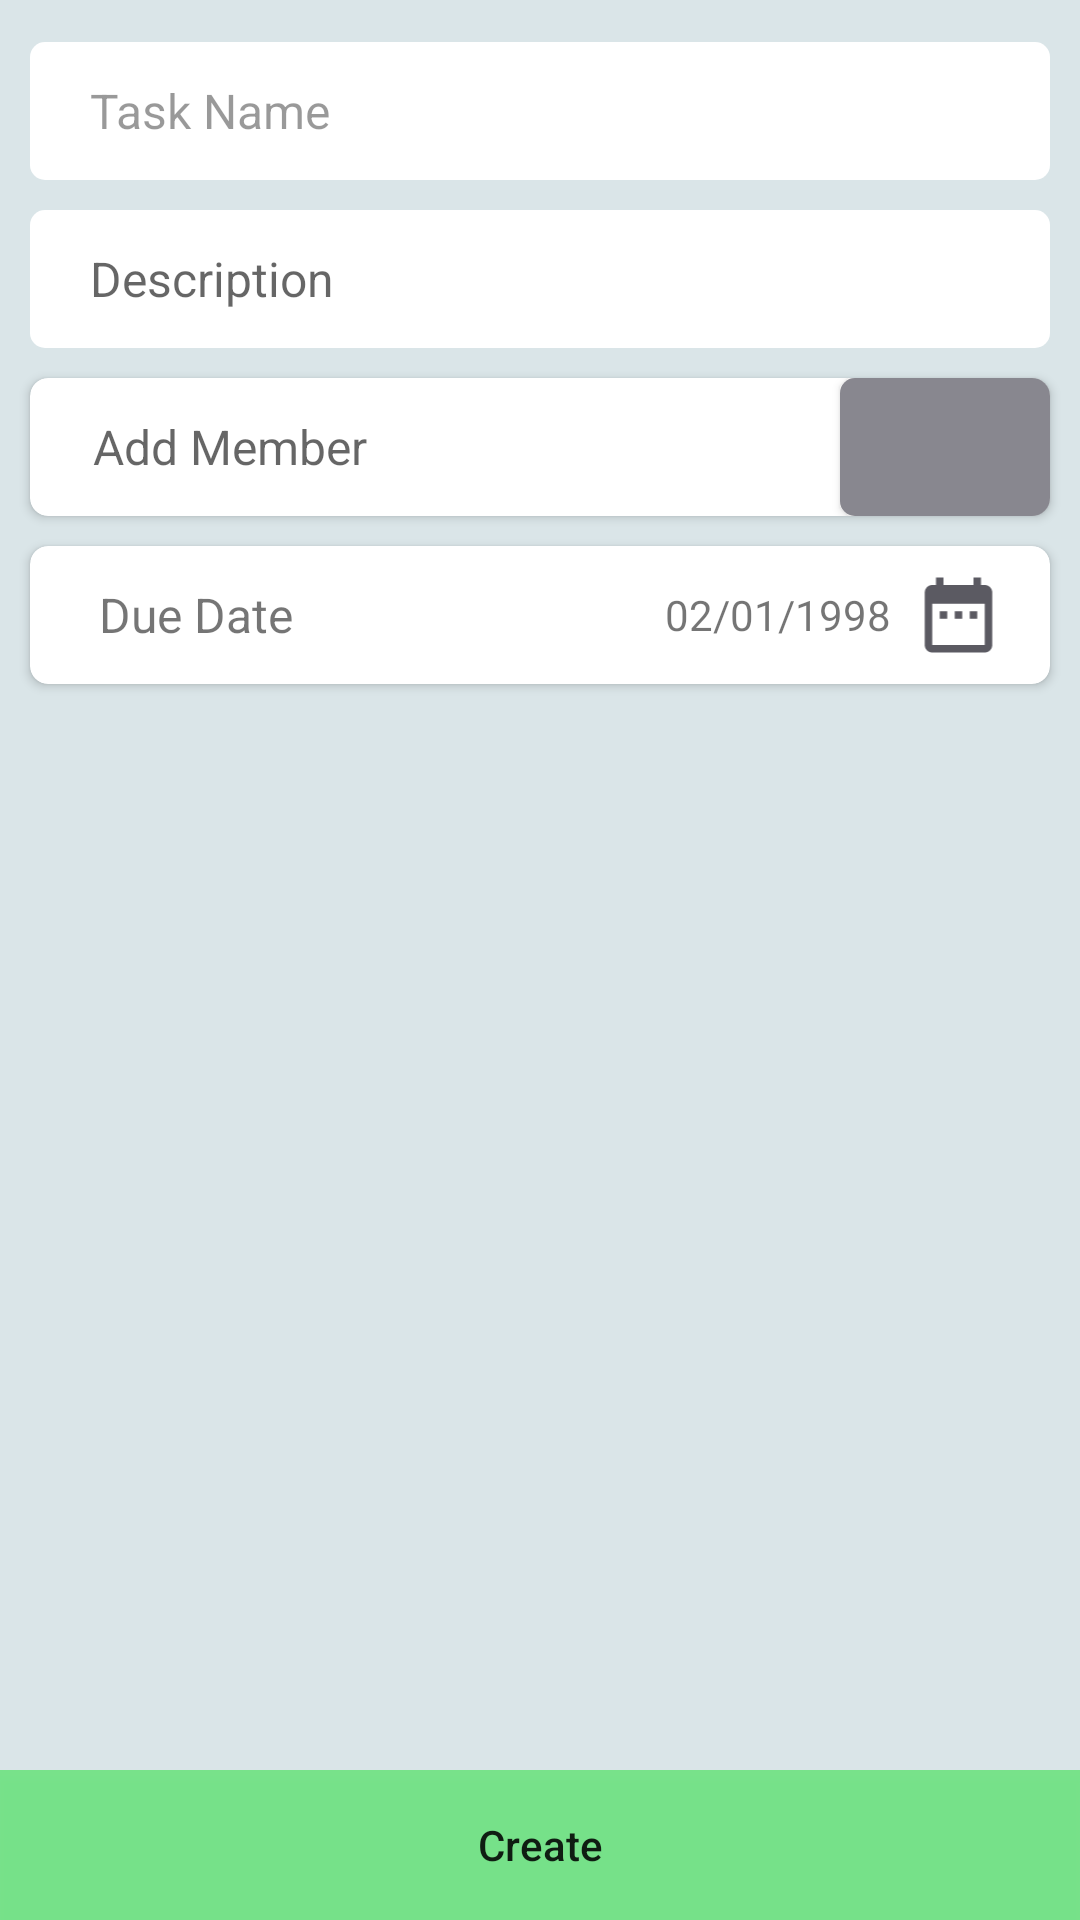

Screen size 1080×1920. Icon name, then its center in pixels as (x=x, y=y):
date range: (x=958, y=615)
